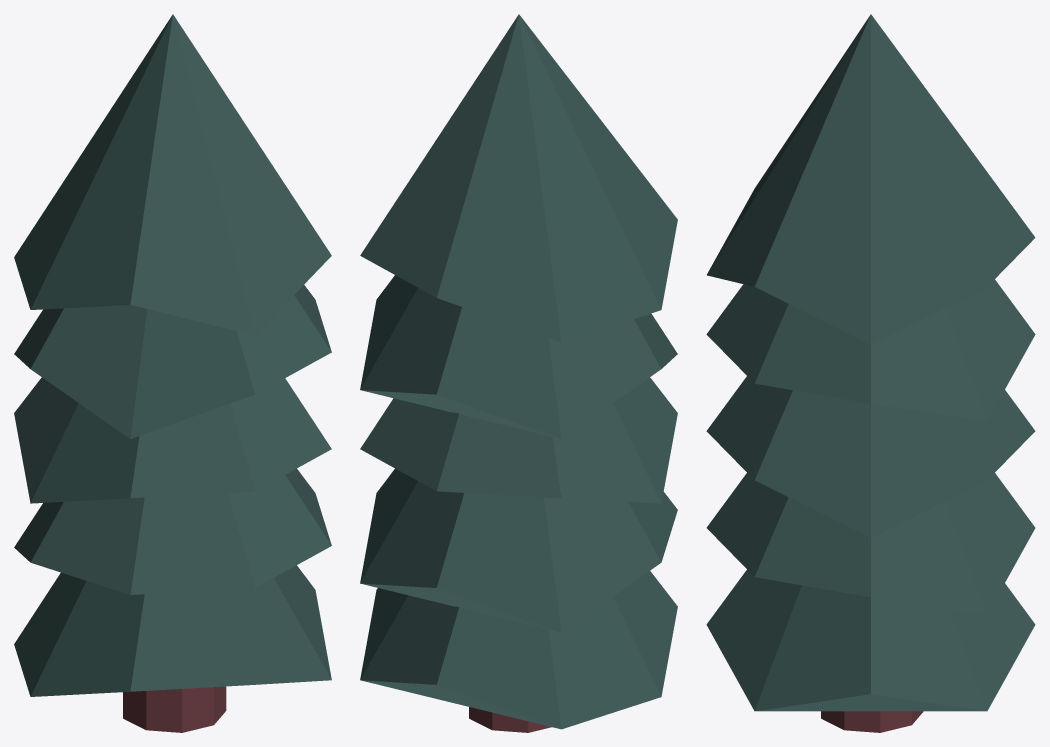
File: pine 2-2.gltf
The picture shows the model from 3 angles, left to right: view 1: azimuth 30°, elevation 25°; view 2: azimuth 150°, elevation 25°; view 3: azimuth 270°, elevation 25°; orthographic projection.
Visible parts, largest first — view 1: Cone.050, Cone.054, Cone.051, Cone.053, Cone.052, Cylinder.012; view 2: Cone.050, Cone.053, Cone.054, Cone.051, Cone.052, Cylinder.012; view 3: Cone.050, Cone.054, Cone.052, Cone.053, Cone.051, Cylinder.012.
Part boxes in pixels (<box>): Cone.050: <box>14,14,331,335</box>; Cone.054: <box>14,565,331,696</box>; Cone.051: <box>14,285,331,438</box>; Cone.053: <box>14,468,331,594</box>; Cone.052: <box>14,377,331,503</box>; Cylinder.012: <box>123,686,226,732</box>; Cone.050: <box>360,14,677,342</box>; Cone.053: <box>360,468,677,632</box>; Cone.054: <box>360,571,677,729</box>; Cone.051: <box>360,275,677,439</box>; Cone.052: <box>360,377,677,503</box>; Cylinder.012: <box>469,707,551,732</box>; Cone.050: <box>707,14,1035,344</box>; Cone.054: <box>706,569,1035,711</box>; Cone.052: <box>706,376,1035,537</box>; Cone.053: <box>706,473,1035,614</box>; Cone.051: <box>706,279,1035,420</box>; Cylinder.012: <box>821,711,923,732</box>.
Size of the model in its own units: 6.17 by 14.41 by 6.17.
1 material, 1 textured.
